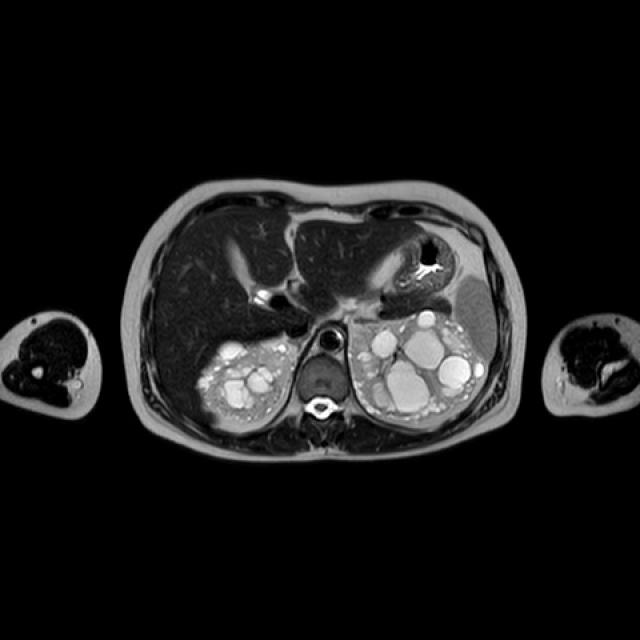sag: (197, 337, 298, 422)
sol: (350, 311, 485, 420)
